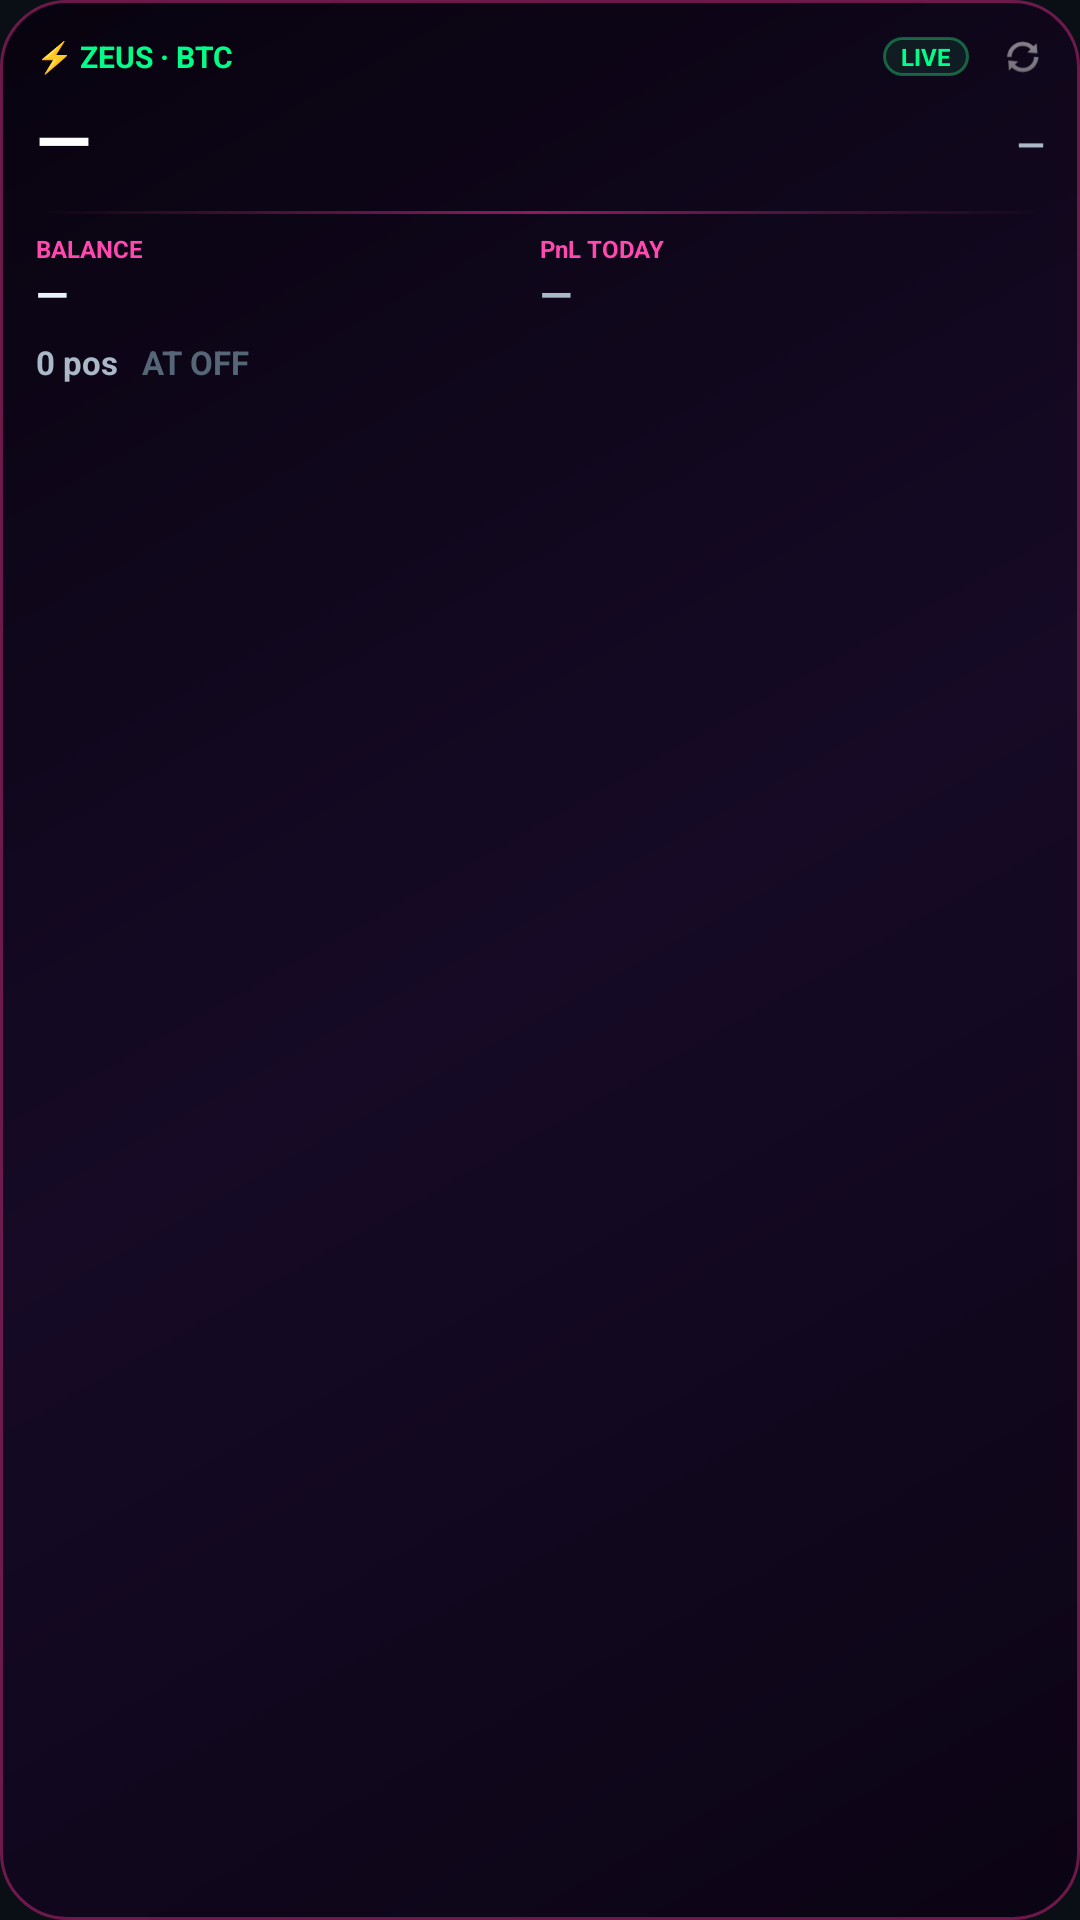

Icon bounding boxes for this 1080×1920 phone screenshot, format (x1, y1, x2, y2):
refresh: (1007, 41, 1039, 73)
